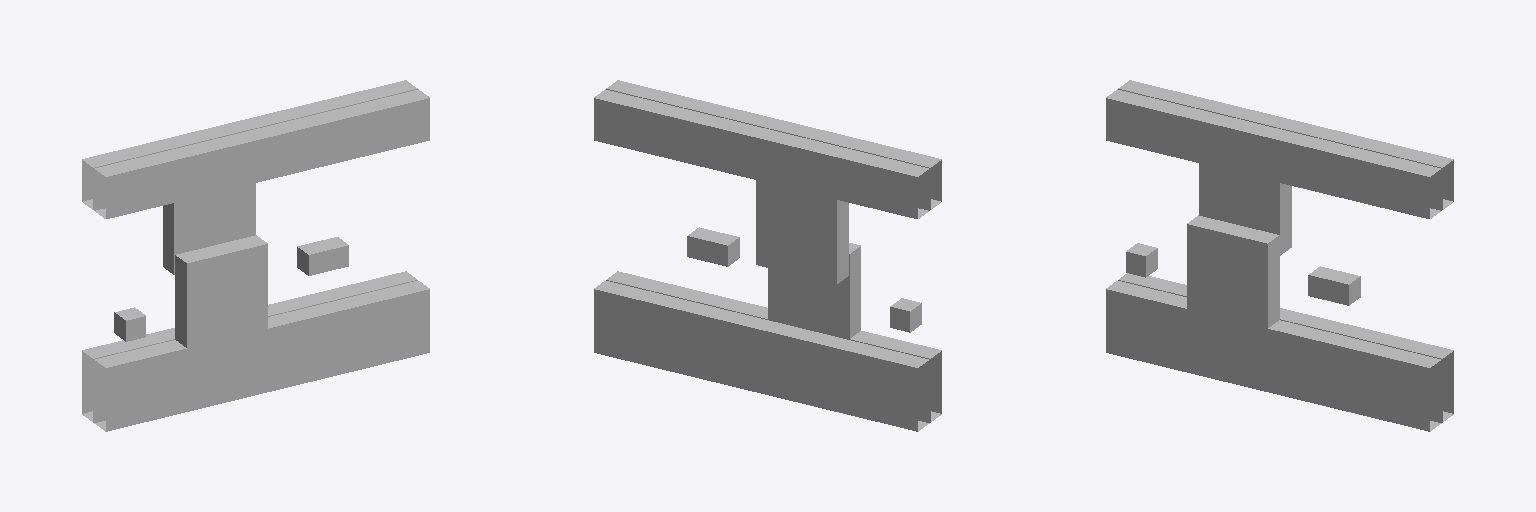
The model's file is Colby4NoMat.obj.
The picture shows the model from 3 angles: view 1: azimuth 30°, elevation 25°; view 2: azimuth 150°, elevation 25°; view 3: azimuth 330°, elevation 25°; orthographic projection.
Visible parts, largest first — view 1: Plane, Plane.001_Plane.002; view 2: Plane.001_Plane.002, Plane; view 3: Plane, Plane.001_Plane.002.
Part boxes in pixels (x1,y1,x2,y2): Plane: (94, 89, 429, 431); Plane.001_Plane.002: (82, 80, 417, 422); Plane.001_Plane.002: (594, 89, 929, 431); Plane: (606, 80, 941, 422); Plane: (1106, 89, 1441, 431); Plane.001_Plane.002: (1118, 80, 1453, 422).
Size of the model in its own units: 16 by 12 by 2.08.